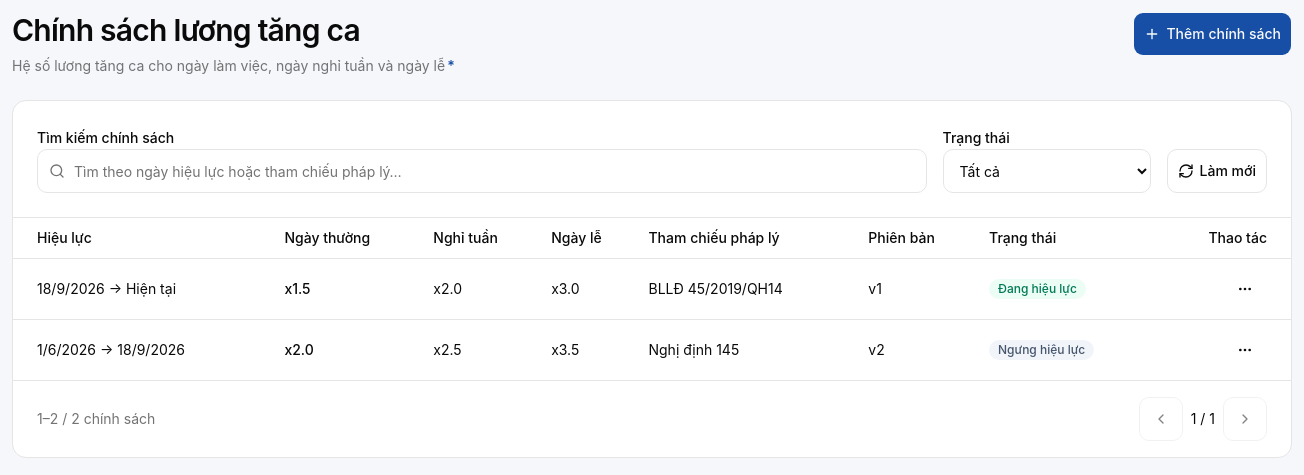
Test: overtime status filter shows only active rows
Select "Đang hiệu lực" in the dropdown with id "overtime-policy-status" at (1047, 171), box [943,149,1151,193]
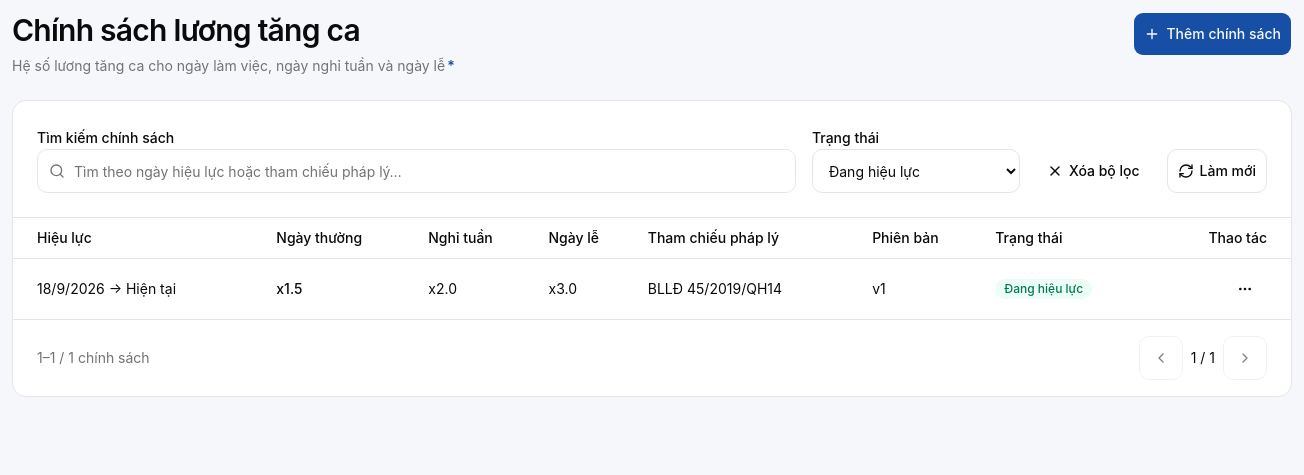
Expected: the text "BLLĐ 45/2019/QH14" is shown, [640,258,864,318]
Result: the text "Nghị định 145" is gone
